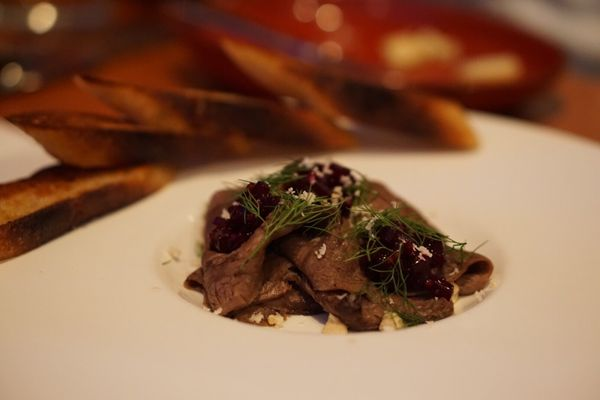soup: (0, 112, 177, 262)
